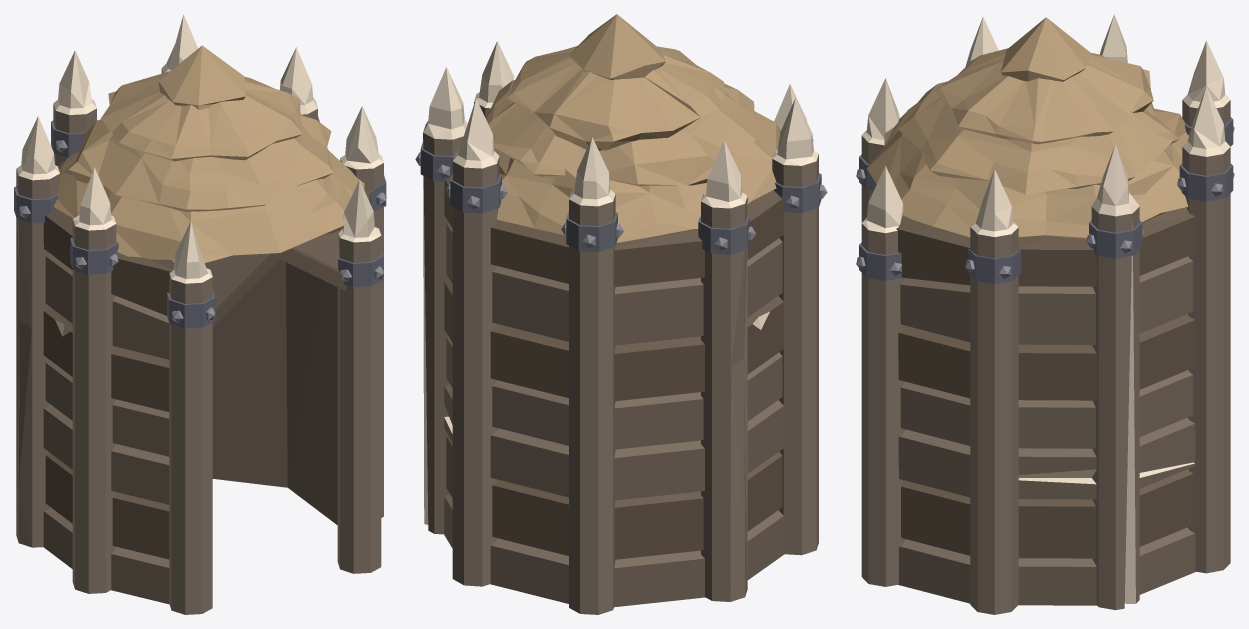
File: _SHED_01.fbx
3 views of the same model, side by side, from view 1: azimuth 30°, elevation 25°; view 2: azimuth 150°, elevation 25°; view 3: azimuth 270°, elevation 25° (orthographic). The views are drawn at different scales.
Visible parts, largest first — view 1: SHED_01; view 2: SHED_01; view 3: SHED_01.
Part boxes in pixels (x1,y1,x2,y2): SHED_01: [14, 14, 386, 614]; SHED_01: [415, 14, 827, 614]; SHED_01: [856, 14, 1234, 614].
Size of the model in its own units: 395 by 578 by 380.
